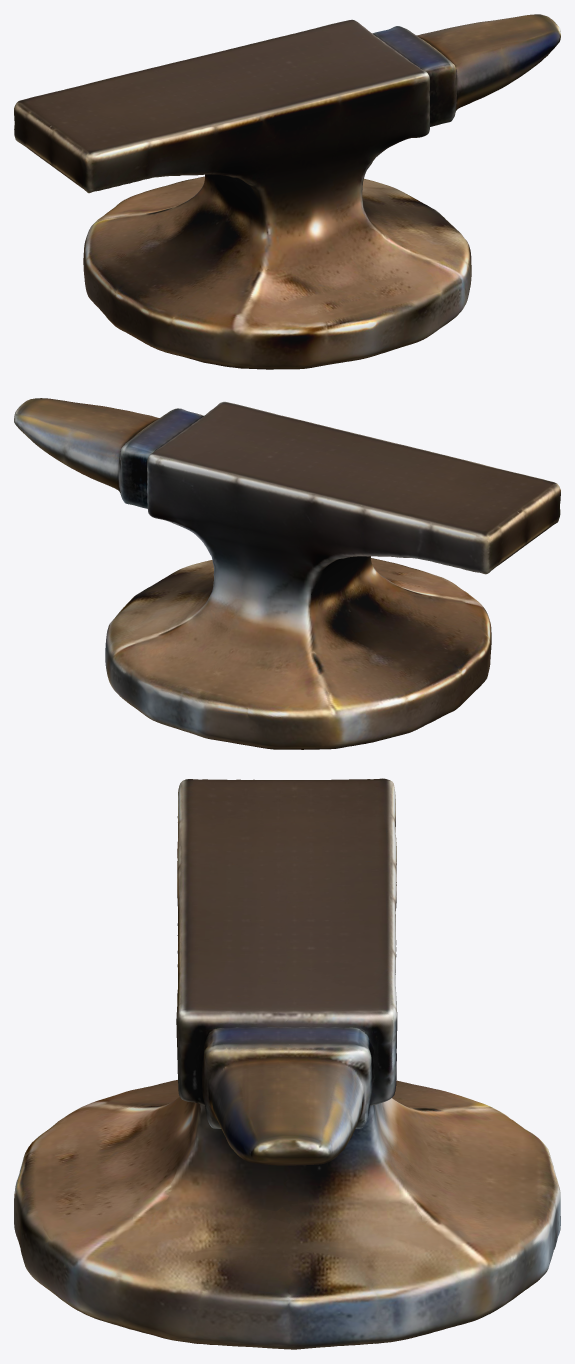
The model's file is Anvil1.fbx.
The picture shows the model from 3 angles, top to bottom: view 1: azimuth 30°, elevation 25°; view 2: azimuth 150°, elevation 25°; view 3: azimuth 270°, elevation 25°; orthographic projection. The views are drawn at different scales.
Parts seen in each view (by area): view 1: geometry_0; view 2: geometry_0; view 3: geometry_0.
Boxes of the visible parts, x1,y1,x2,y2 form: geometry_0: (14,14,560,369); geometry_0: (14,398,560,749); geometry_0: (14,778,560,1349).
Size of the model in its own units: 95.17 by 39.89 by 62.92.
Materials: 1 (1 with a texture image).
